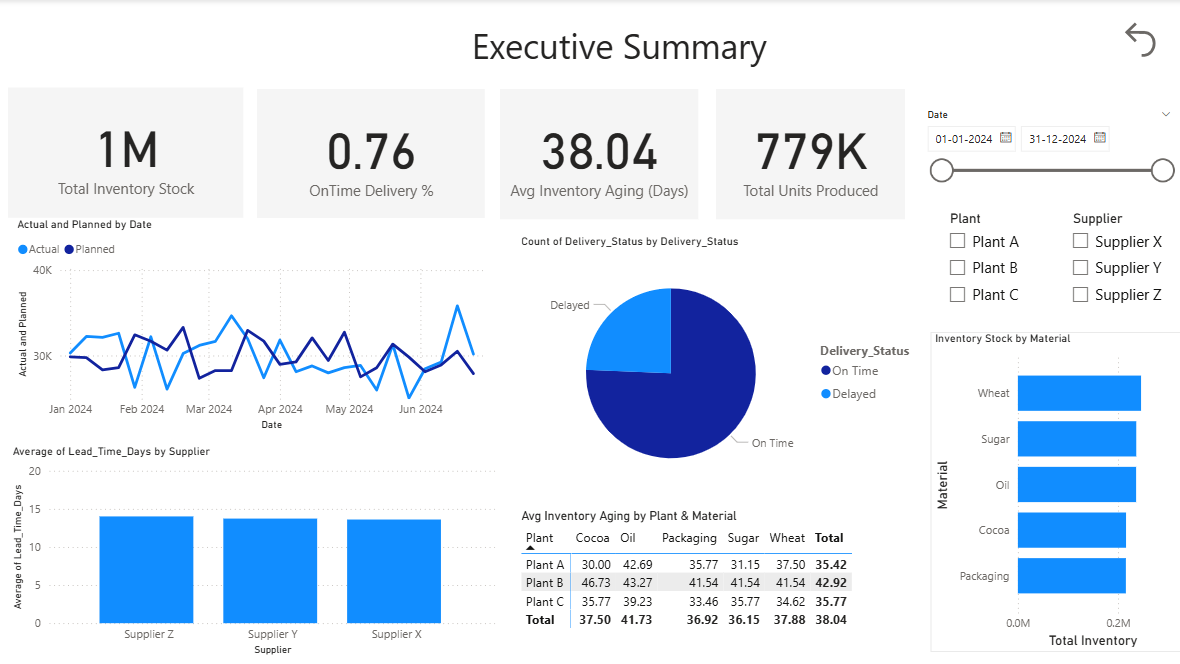

What the dashboard file says about the page in this screenshot:
{"tool":"powerbi","page":{"name":"Executive Summary","canvas":[1280,720],"ordinal":0},"visuals":[{"type":"card","fields":{"Values":["Inventory_Data.Total_Inventory_Stock"]},"box":[9.7,95.5,254.2,140.9],"z":0},{"type":"card","fields":{"Values":["Inventory_Data.Avg_Inventory_Aging"]},"box":[540.8,97.2,213.7,140.9],"z":1000},{"type":"card","fields":{"Values":["Production_Data.Actual_Units_Produced"]},"box":[774,97.2,204,140.9],"z":2000},{"type":"card","fields":{"Values":["Procurement_Data.OnTime_Delivery_Pct"]},"box":[278.5,97.2,246.1,140.9],"z":3000},{"type":"textbox","box":[505.2,19.4,362.7,69.6],"z":4000},{"type":"lineChart","fields":{"Category":["DateTable.Date"],"Y":["Production_Data.Actual_Units_Produced","Sum(Production_Data.Planned_Units)"]},"box":[14.6,236.4,526.2,233.2],"z":5000},{"type":"slicer","fields":{"Values":["DateTable.Date"]},"box":[989.3,113.3,288.2,105.2],"z":6000},{"type":"slicer","fields":{"Values":["Inventory_Data.Plant"]},"box":[1013.6,223.5,131.2,119.8],"z":7000},{"type":"slicer","fields":{"Values":["Procurement_Data.Supplier"]},"box":[1146.4,223.5,124.7,119.8],"z":9000},{"type":"actionButton","box":[1207.9,19.4,53.4,48.6],"z":10000},{"type":"clusteredBarChart","title":"Inventory Stock by Material","fields":{"Y":["Sum(Inventory_Data.Stock_Qty)"],"Category":["Inventory_Data.Material"]},"box":[1005.5,359.5,275.3,344.9],"z":11000},{"type":"pivotTable","title":"Avg Inventory Aging by Plant & Material","fields":{"Rows":["Inventory_Data.Plant"],"Columns":["Inventory_Data.Material"],"Values":["Inventory_Data.Avg_Inventory_Aging"]},"box":[558.6,550.5,430.7,153.8],"z":12000},{"type":"pieChart","fields":{"Category":["Procurement_Data.Delivery_Status"],"Y":["CountNonNull(Procurement_Data.Delivery_Status)"]},"box":[558.6,254.2,443.7,285],"z":13000},{"type":"columnChart","fields":{"Category":["Procurement_Data.Supplier"],"Y":["Avg(Procurement_Data.Lead_Time_Days)"]},"box":[9.7,480.9,531.1,231.5],"z":14000}]}

Visuals, with their boxes in screenshot pixels (x1, y1, x2, y2), scaled from the page's 1280x720 canvas onto the 1180x664 screenshot:
card - Inventory_Data.Total_Inventory_Stock: x1=9 y1=88 x2=243 y2=218
card - Inventory_Data.Avg_Inventory_Aging: x1=499 y1=90 x2=696 y2=220
card - Production_Data.Actual_Units_Produced: x1=714 y1=90 x2=902 y2=220
card - Procurement_Data.OnTime_Delivery_Pct: x1=257 y1=90 x2=484 y2=220
textbox: x1=466 y1=18 x2=800 y2=82
lineChart - DateTable.Date x Production_Data.Actual_Units_Produced: x1=13 y1=218 x2=499 y2=433
slicer - DateTable.Date: x1=912 y1=104 x2=1178 y2=202
slicer - Inventory_Data.Plant: x1=934 y1=206 x2=1055 y2=317
slicer - Procurement_Data.Supplier: x1=1057 y1=206 x2=1172 y2=317
actionButton: x1=1114 y1=18 x2=1163 y2=63
"Inventory Stock by Material" clusteredBarChart: x1=927 y1=332 x2=1179 y2=650
"Avg Inventory Aging by Plant & Material" pivotTable: x1=515 y1=508 x2=912 y2=650
pieChart - Procurement_Data.Delivery_Status x CountNonNull(Procurement_Data.Delivery_Status): x1=515 y1=234 x2=924 y2=497
columnChart - Procurement_Data.Supplier x Avg(Procurement_Data.Lead_Time_Days): x1=9 y1=443 x2=499 y2=657
